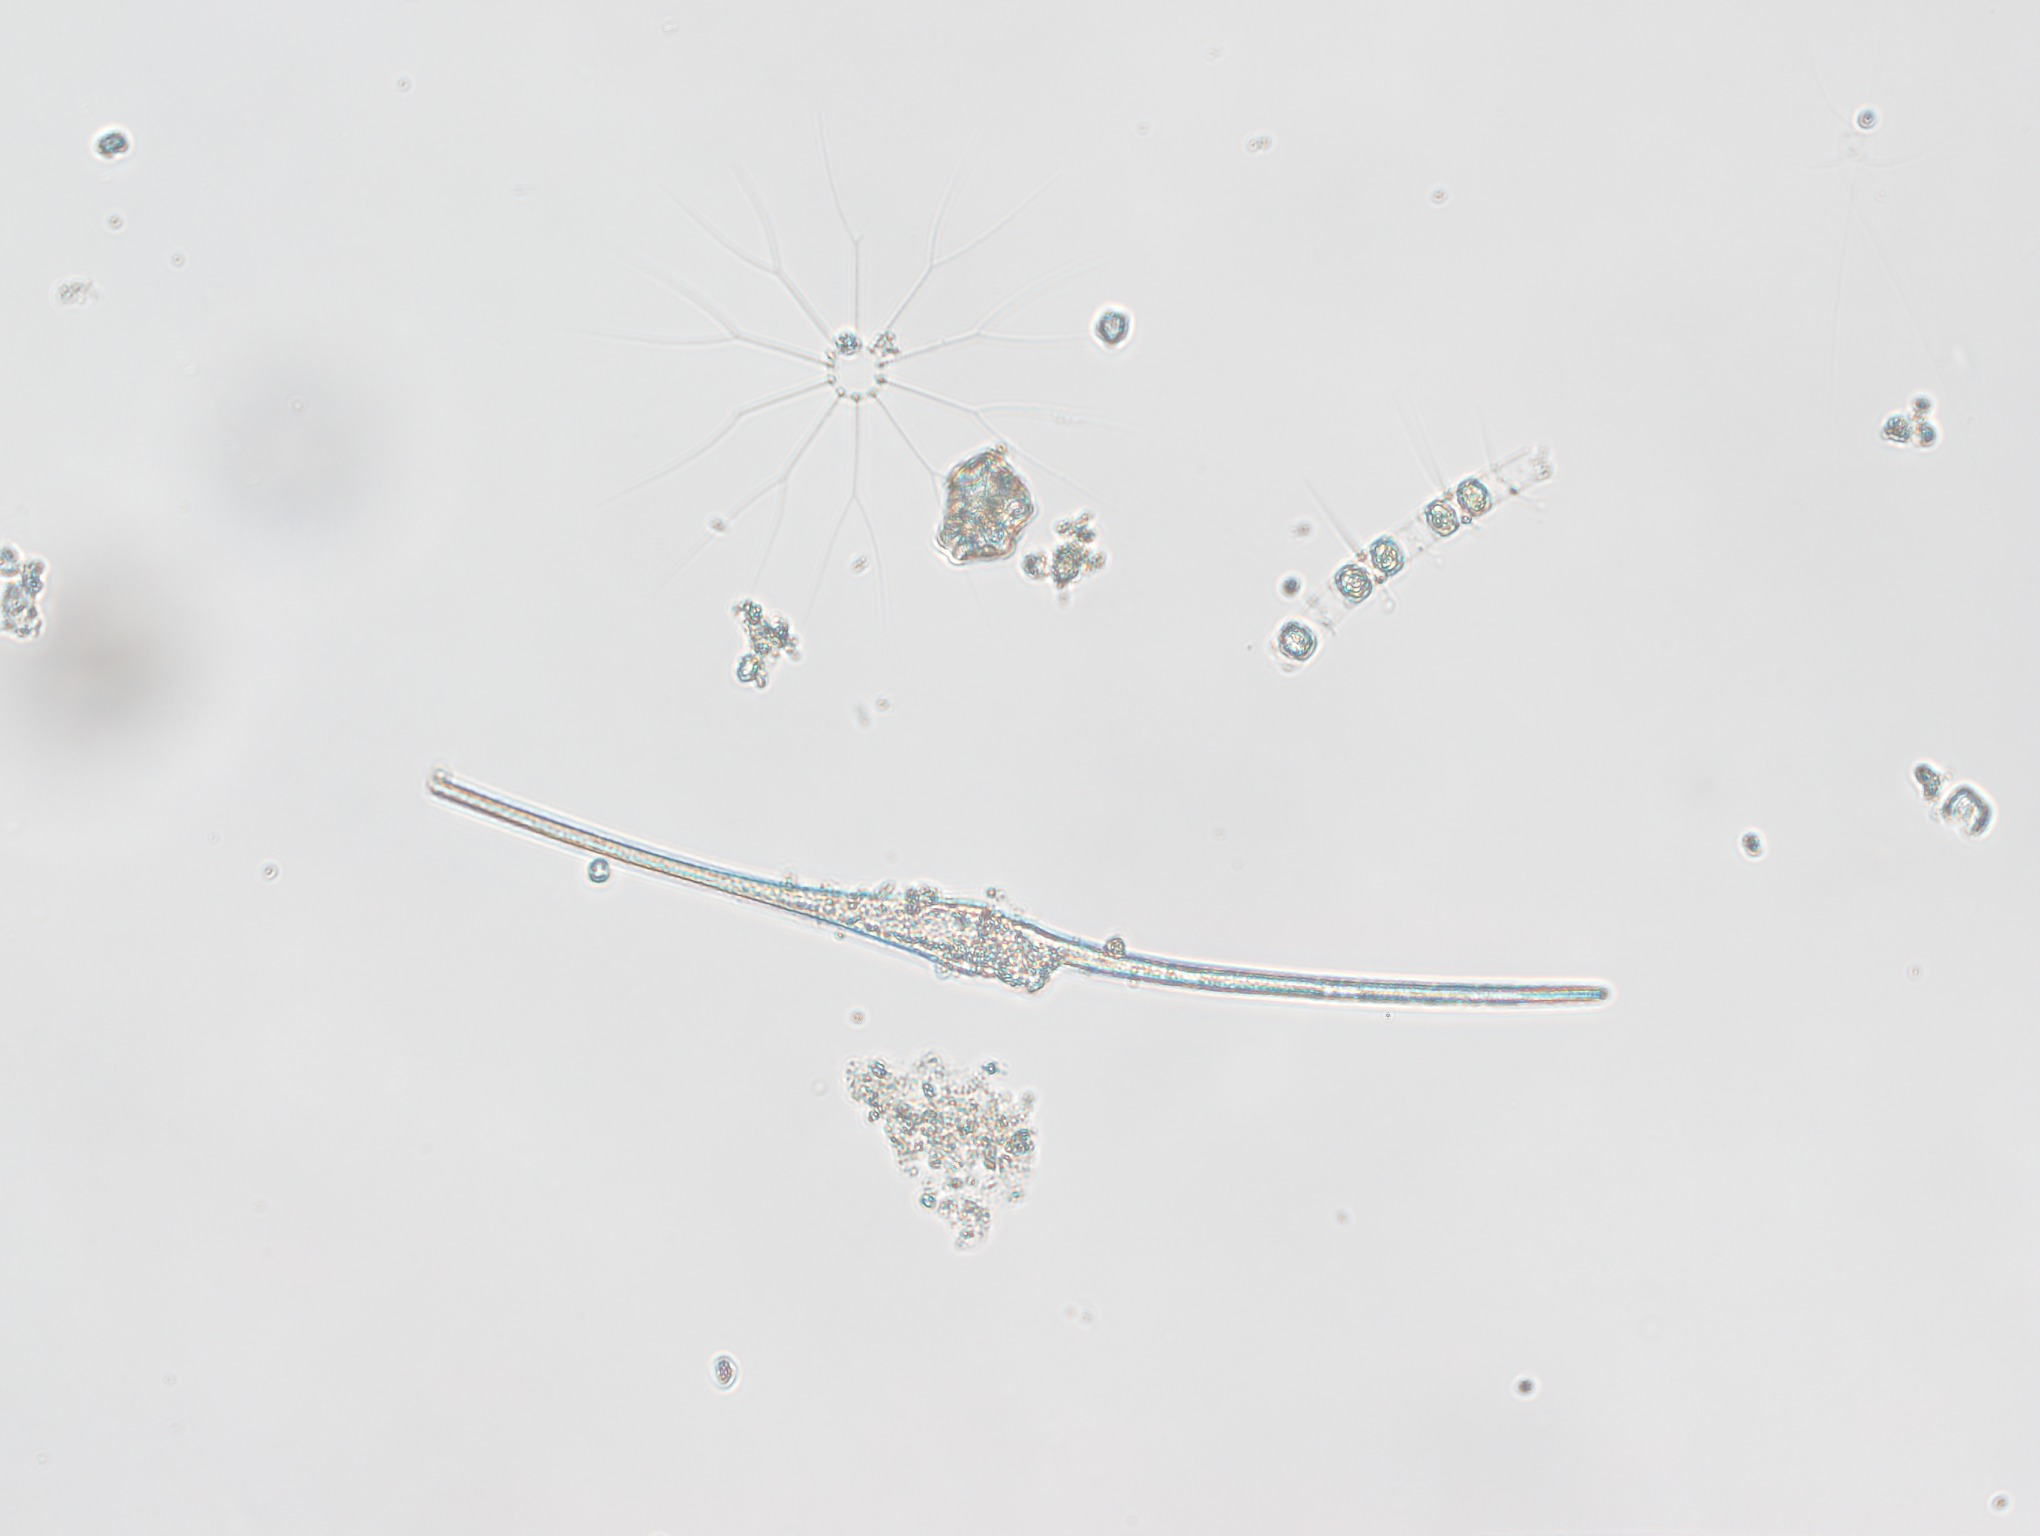bacteriastrum: (643, 147, 1047, 566)
ceratium fusus: (419, 752, 1622, 1034)
chaetoceros: (1192, 395, 1619, 708)
